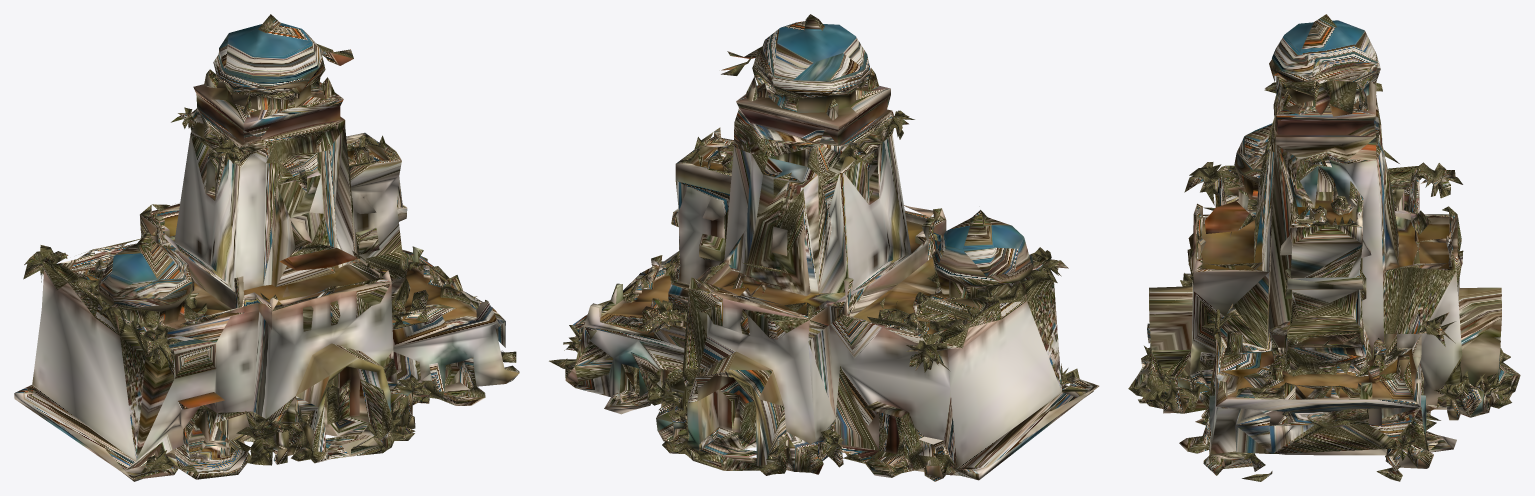
The model's file is Desert_Oasis_Palace.glb.
3 views of the same model, side by side, from view 1: azimuth 30°, elevation 25°; view 2: azimuth 150°, elevation 25°; view 3: azimuth 270°, elevation 25° (orthographic). The views are drawn at different scales.
Visible parts, largest first — view 1: Desert_Oasis_Palace; view 2: Desert_Oasis_Palace; view 3: Desert_Oasis_Palace.
Part boxes in pixels (x1,y1,x2,y2): Desert_Oasis_Palace: [14, 14, 519, 481]; Desert_Oasis_Palace: [549, 14, 1099, 481]; Desert_Oasis_Palace: [1128, 14, 1520, 481].
Size of the model in its own units: 1.92 by 1.6 by 1.53.
Materials: 1 (1 with a texture image).
